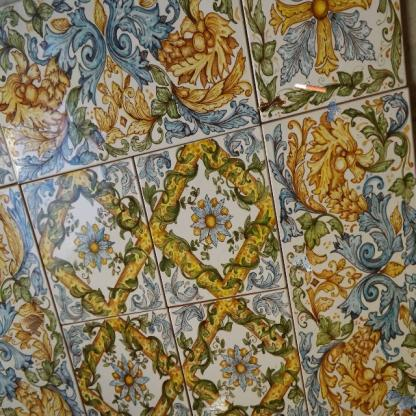dirty: (18, 308, 47, 336), (256, 94, 286, 116), (288, 252, 313, 278), (202, 392, 230, 415), (85, 127, 109, 150), (293, 81, 328, 94)
liquid: (386, 389, 416, 412), (324, 100, 342, 123)
